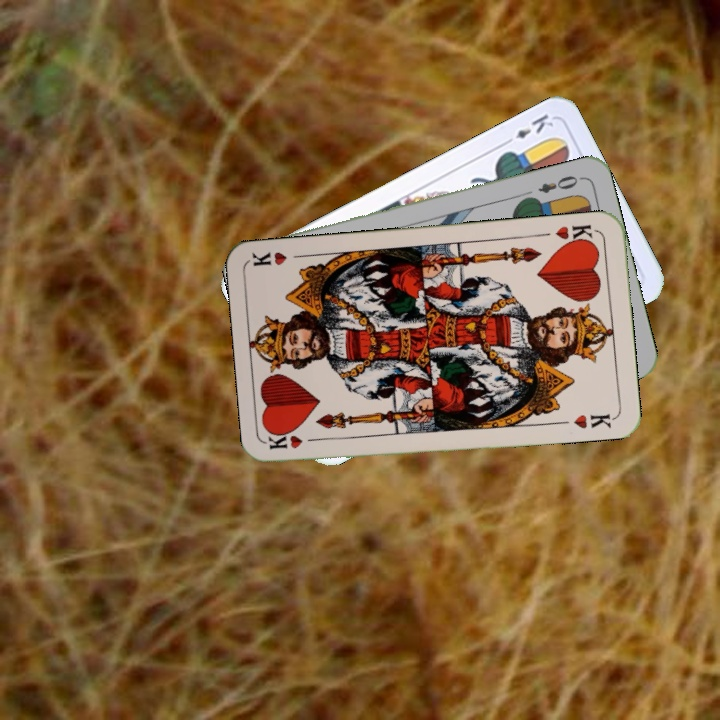EK: (499, 110, 556, 148)
EO: (534, 171, 585, 196)
HK: (551, 221, 599, 248), (266, 431, 325, 452)
